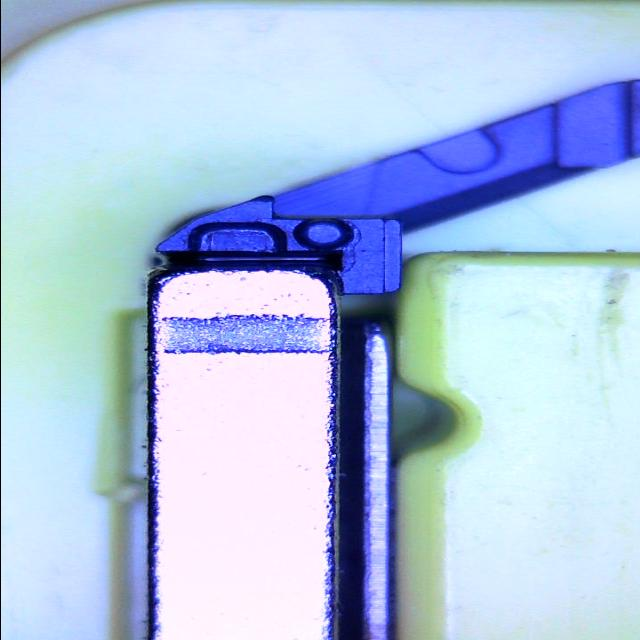good: (186, 220, 290, 258)
